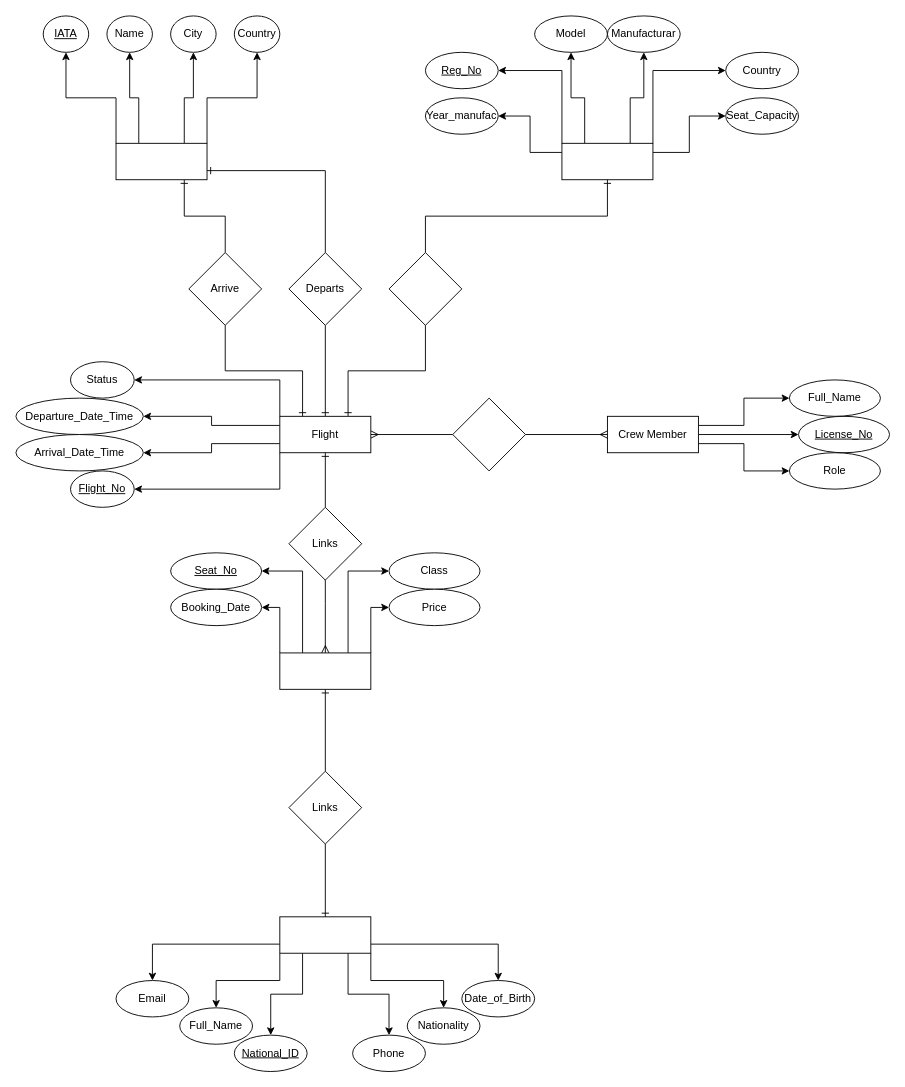
The diagram is 905 pixels wide and 1087 high, and some of its shapes have lost their labels. Each missing label, with the centre of its shape:
Aircraft: the point at 607,161
Airport: the point at 161,161
Assigned: the point at 425,288
Booking: the point at 325,670
Passenger: the point at 325,934
Serve: the point at 489,434
